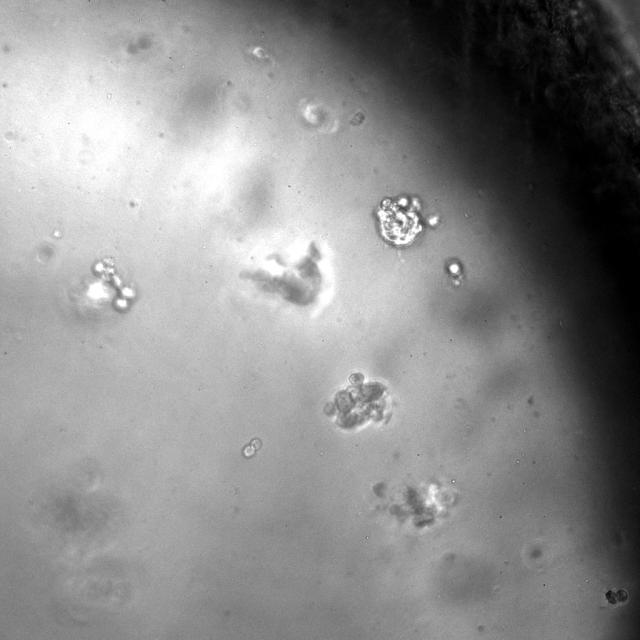organoid: (243, 243, 322, 305), (372, 482, 456, 530), (324, 371, 389, 431), (374, 194, 441, 247), (92, 256, 136, 311), (445, 258, 464, 286), (604, 588, 629, 606), (242, 438, 261, 458), (350, 111, 364, 125)
